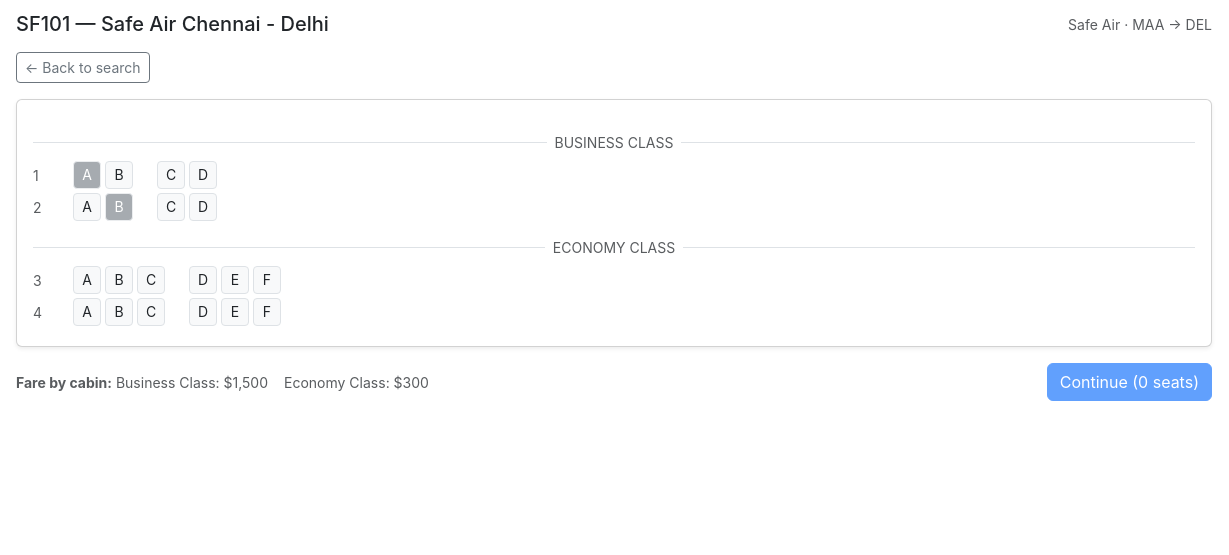
Test: SeatMapPage › shows selected seats summary with pricing
The width and height of the screenshot is (1229, 555).
What coordinates should you click on to do the following:
click the 1st text "B"
I would click on:
 (119, 175)
Its box is x1=105 y1=161 x2=133 y2=189.
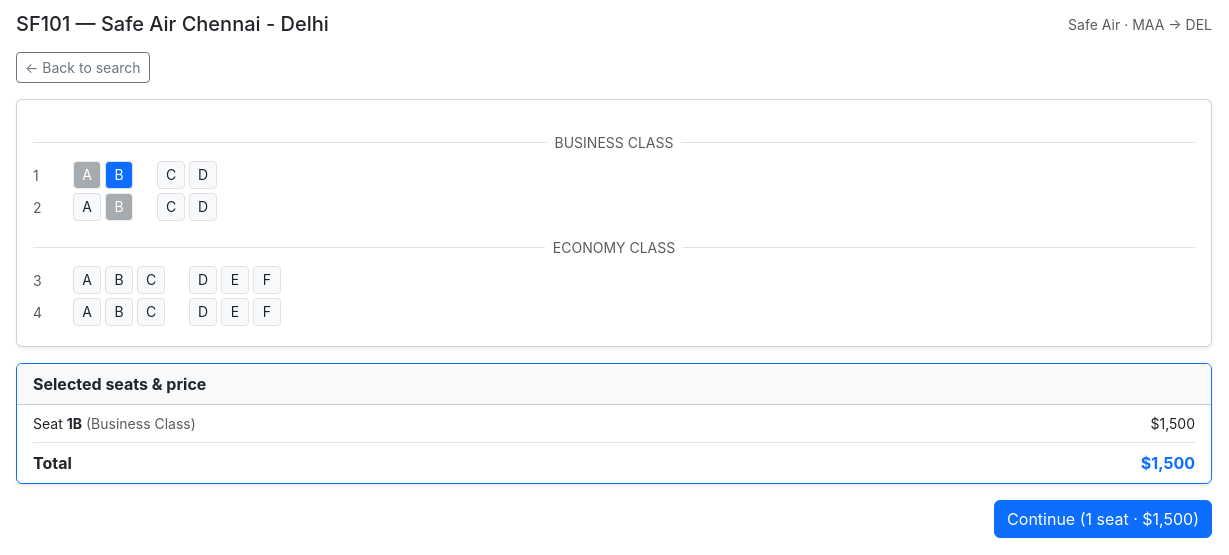
Now the text "Selected seats & price" is shown, box x1=33 y1=374 x2=206 y2=394
Now the text "Total" is shown, box x1=33 y1=451 x2=72 y2=475
